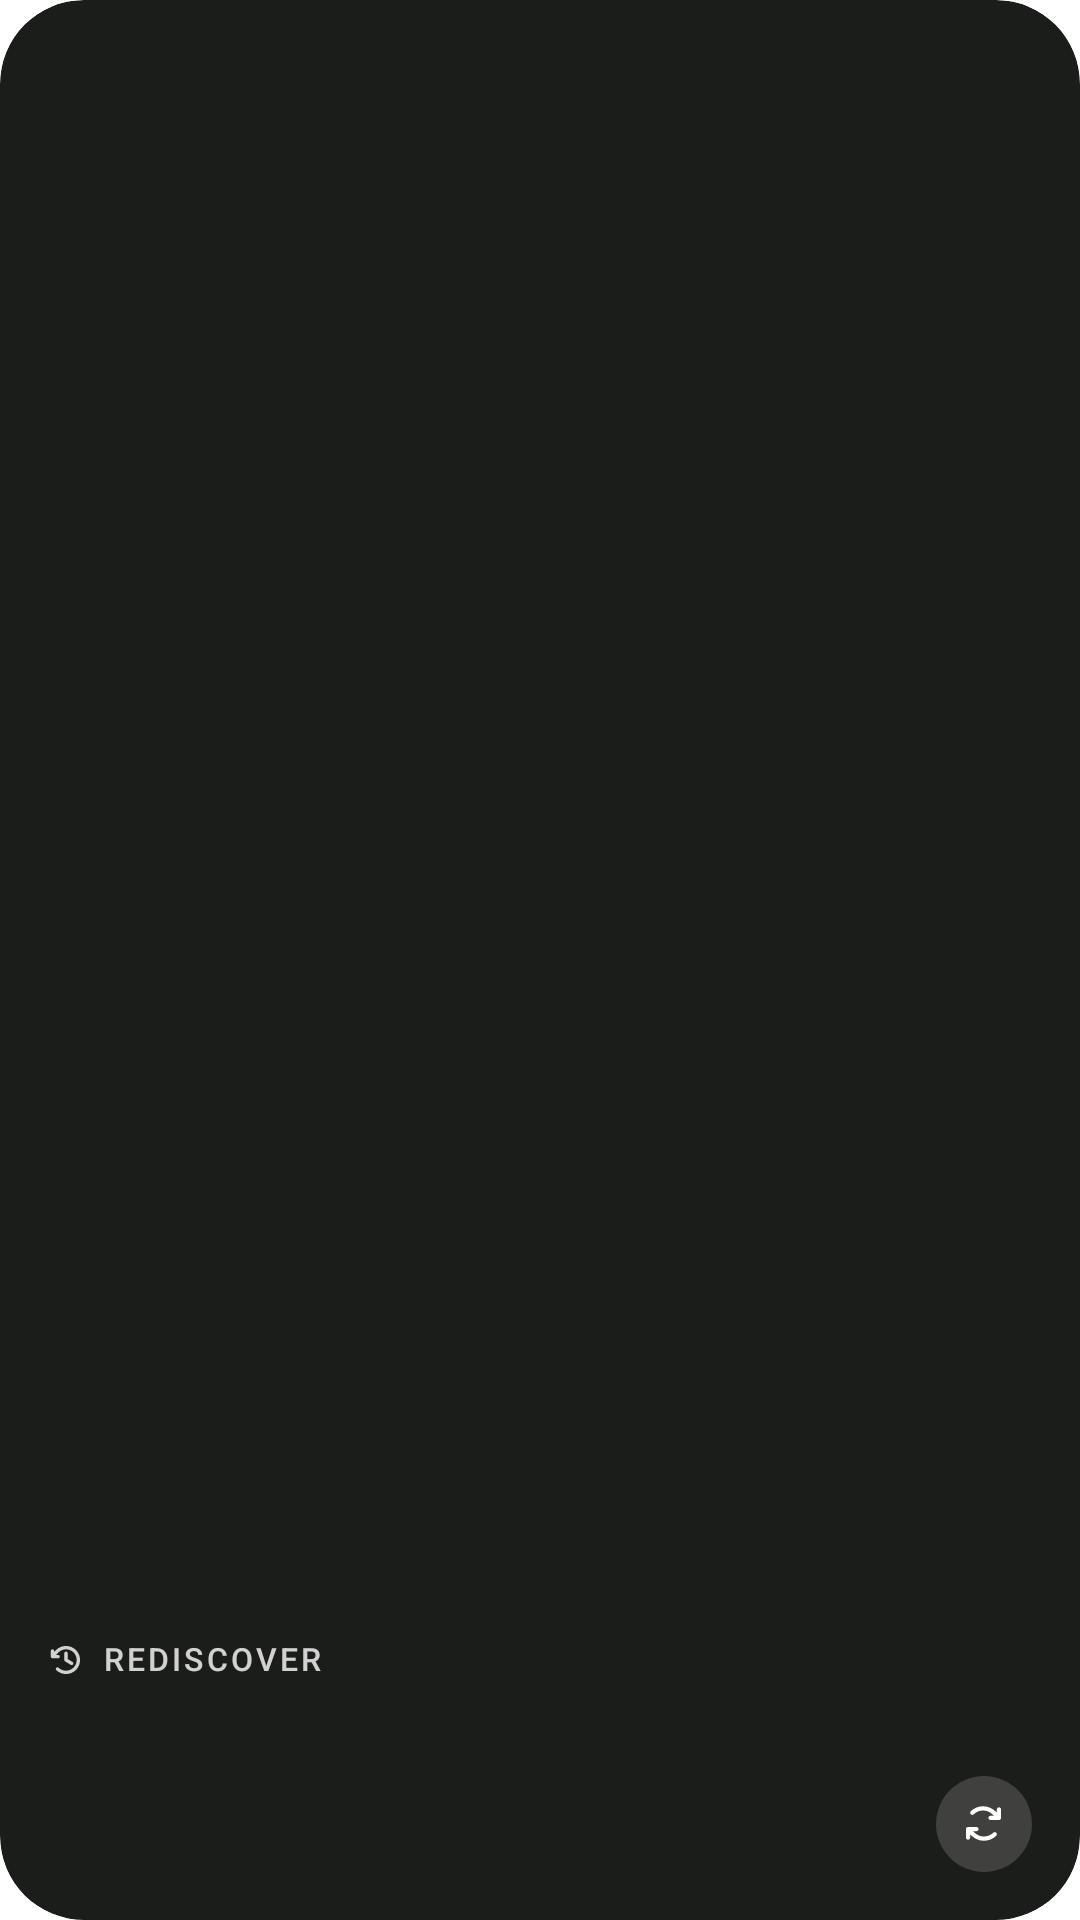

Point at icon controls on the screen. Image size 1080×1920, points as (x,y).
widget next photo: (983,1823)
widget rewind photo: (65,1660)
